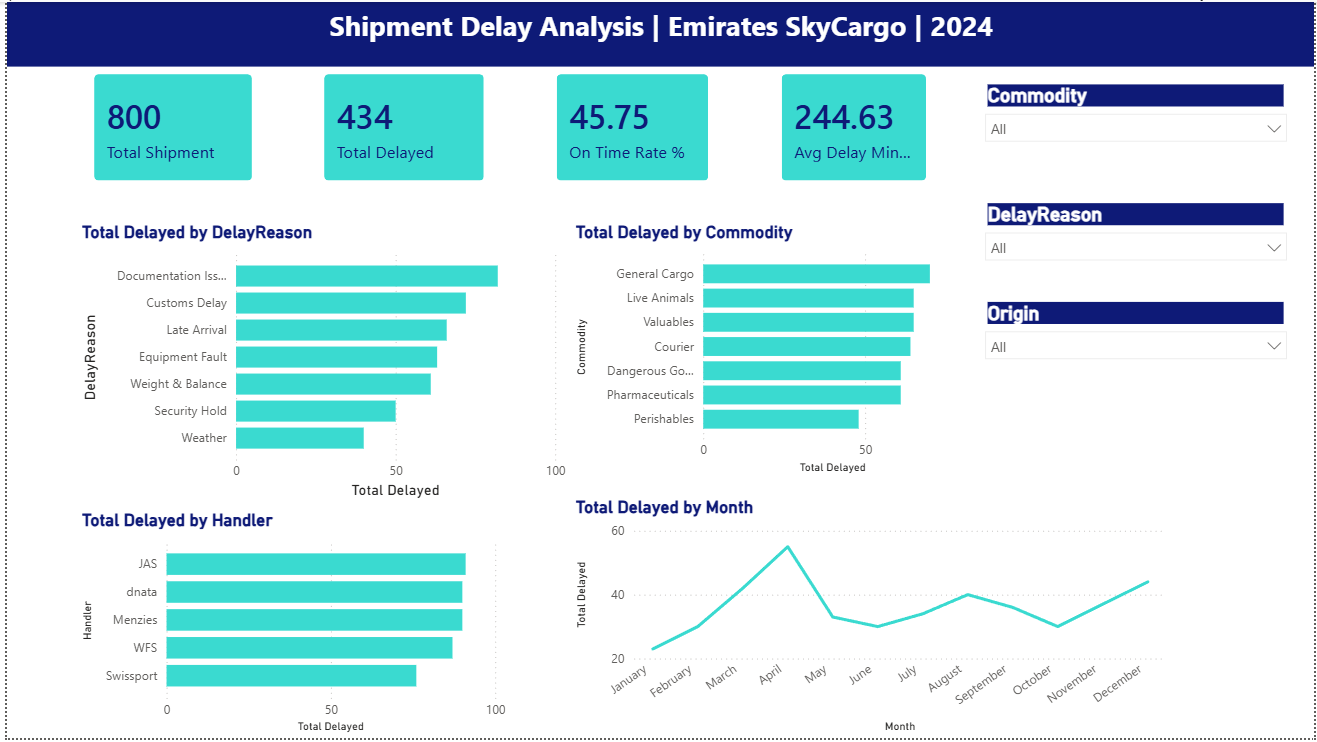

What the dashboard file says about the page in this screenshot:
{"tool":"powerbi","page":{"name":"Page 1","canvas":[1280,720],"ordinal":0},"visuals":[{"type":"cardVisual","fields":{"Data":["shipment_delays.Total Shipment"]},"box":[68.6,53.5,188.1,138.6],"z":0,"group":"g1"},{"type":"cardVisual","fields":{"Data":["shipment_delays.Total Delayed"]},"box":[294,53.5,190.4,138.6],"z":1000,"group":"g1"},{"type":"cardVisual","fields":{"Data":["shipment_delays.On Time Rate %"]},"box":[521.7,53.5,182.3,138.6],"z":2000,"group":"g1"},{"type":"cardVisual","fields":{"Data":["shipment_delays.Avg Delay Minutes"]},"box":[741.3,53.5,175.4,138.6],"z":3000,"group":"g1"},{"type":"clusteredBarChart","fields":{"Category":["shipment_delays.DelayReason"],"Y":["shipment_delays.Total Delayed"]},"box":[68.6,215.4,483,275.8],"z":4000},{"type":"clusteredBarChart","fields":{"Category":["shipment_delays.Handler"],"Y":["shipment_delays.Total Delayed"]},"box":[68.5,496.5,424.3,223.8],"z":5000},{"type":"lineChart","fields":{"Y":["shipment_delays.Total Delayed"],"Category":["shipment_delays.ShipmentDate.Variation.Date Hierarchy.Month"]},"box":[551.6,484.4,587.3,236],"z":7000},{"type":"group","id":"g1","title":"Group 1","box":[68.6,53.5,848,138.6],"z":7001},{"type":"clusteredBarChart","fields":{"Y":["shipment_delays.Total Delayed"],"Category":["shipment_delays.Commodity"]},"box":[551.6,215.4,395.2,251.1],"z":7002},{"type":"textbox","box":[0,0,1280.3,63.1],"z":7003},{"type":"slicer","fields":{"Values":["shipment_delays.Commodity"]},"box":[946.8,75.5,315.6,96.1],"z":7004},{"type":"slicer","fields":{"Values":["shipment_delays.DelayReason"]},"box":[946.8,192.1,315.6,96.1],"z":7005},{"type":"slicer","fields":{"Values":["shipment_delays.Origin"]},"box":[946.8,288.2,315.6,96.1],"z":7006}]}

Visuals, with their boxes in screenshot pixels (x1, y1, x2, y2), scaled from the page's 1280x720 canvas onto the 1317x742 screenshot:
cardVisual - shipment_delays.Total Shipment: 71,55,264,198
cardVisual - shipment_delays.Total Delayed: 302,55,498,198
cardVisual - shipment_delays.On Time Rate %: 537,55,724,198
cardVisual - shipment_delays.Avg Delay Minutes: 763,55,943,198
clusteredBarChart - shipment_delays.DelayReason x shipment_delays.Total Delayed: 71,222,568,506
clusteredBarChart - shipment_delays.Handler x shipment_delays.Total Delayed: 70,512,507,741
lineChart - shipment_delays.Total Delayed x shipment_delays.ShipmentDate.Variation.Date Hierarchy.Month: 568,499,1172,741
"Group 1" group: 71,55,943,198
clusteredBarChart - shipment_delays.Total Delayed x shipment_delays.Commodity: 568,222,974,481
textbox: 0,0,1316,65
slicer - shipment_delays.Commodity: 974,78,1299,177
slicer - shipment_delays.DelayReason: 974,198,1299,297
slicer - shipment_delays.Origin: 974,297,1299,396
